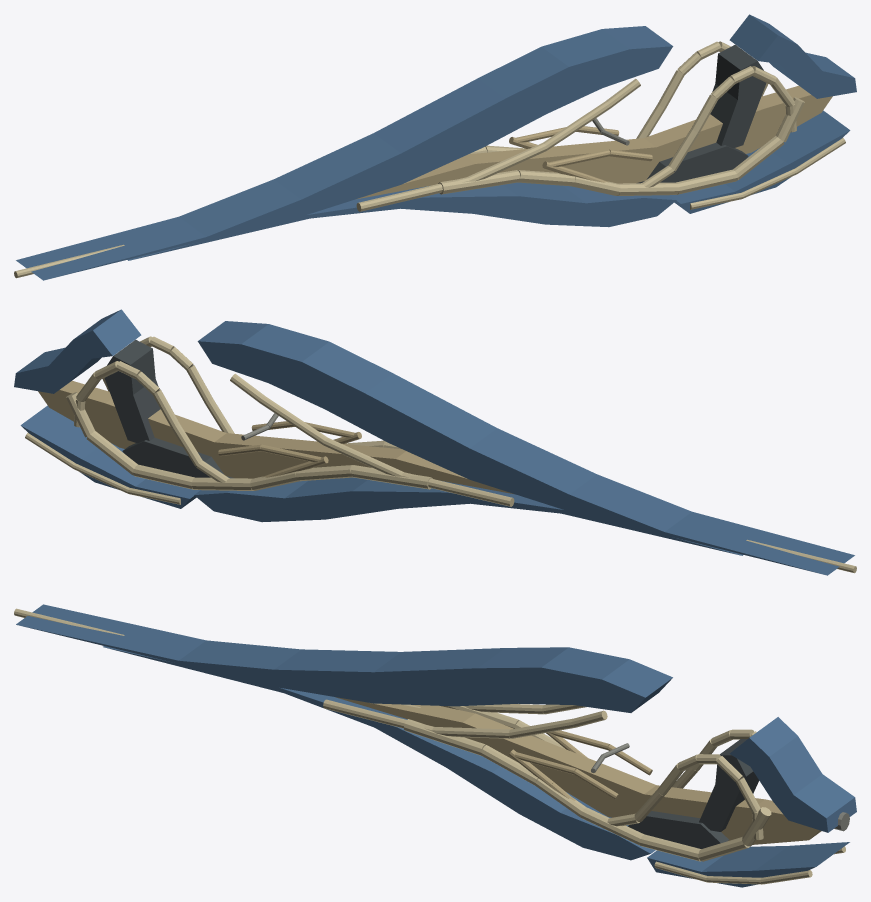
The model's file is ruch_blue_off.glb.
The picture shows the model from 3 angles, top to bottom: view 1: azimuth 30°, elevation 25°; view 2: azimuth 150°, elevation 25°; view 3: azimuth 330°, elevation 25°; orthographic projection.
Parts seen in each view (by area): view 1: upper_blade_0, spine_3, lower_blade_1, gold_frame_8, rear_fairing_6, aft_lower_7, cockpit_arch_9, seat_back_5, seat_base_4, structural_braces_10, rear_rail_11; view 2: upper_blade_0, spine_3, lower_blade_1, gold_frame_8, rear_fairing_6, aft_lower_7, cockpit_arch_9, seat_back_5, seat_base_4, structural_braces_10, rear_rail_11; view 3: upper_blade_0, spine_3, gold_frame_8, lower_blade_1, rear_fairing_6, aft_lower_7, cockpit_arch_9, seat_back_5, structural_braces_10, seat_base_4, rear_rail_11.
Part boxes in pixels (left/top/right/bottom): upper_blade_0: left=16, top=26, right=673, bottom=280; spine_3: left=356, top=85, right=832, bottom=199; lower_blade_1: left=127, top=182, right=676, bottom=260; gold_frame_8: left=356, top=78, right=804, bottom=211; rear_fairing_6: left=729, top=14, right=856, bottom=98; aft_lower_7: left=670, top=110, right=850, bottom=213; cockpit_arch_9: left=636, top=41, right=796, bottom=187; seat_back_5: left=710, top=44, right=766, bottom=148; seat_base_4: left=636, top=142, right=748, bottom=183; structural_braces_10: left=509, top=126, right=652, bottom=182; rear_rail_11: left=690, top=138, right=845, bottom=209; upper_blade_0: left=197, top=321, right=854, bottom=575; spine_3: left=38, top=380, right=514, bottom=494; lower_blade_1: left=194, top=477, right=743, bottom=555; gold_frame_8: left=66, top=373, right=514, bottom=506; rear_fairing_6: left=14, top=309, right=141, bottom=393; aft_lower_7: left=20, top=405, right=200, bottom=508; cockpit_arch_9: left=74, top=336, right=234, bottom=482; seat_back_5: left=104, top=339, right=160, bottom=443; seat_base_4: left=122, top=437, right=234, bottom=478; structural_braces_10: left=218, top=421, right=361, bottom=477; rear_rail_11: left=25, top=433, right=180, bottom=504; upper_blade_0: left=16, top=604, right=672, bottom=712; spine_3: left=335, top=697, right=821, bottom=844; gold_frame_8: left=323, top=699, right=771, bottom=861; lower_blade_1: left=103, top=646, right=655, bottom=860; rear_fairing_6: left=729, top=717, right=856, bottom=832; aft_lower_7: left=647, top=842, right=849, bottom=887; cockpit_arch_9: left=607, top=729, right=763, bottom=839; seat_back_5: left=699, top=739, right=759, bottom=831; structural_braces_10: left=509, top=730, right=652, bottom=800; seat_base_4: left=628, top=811, right=728, bottom=848; rear_rail_11: left=654, top=846, right=845, bottom=884.
Bounding box in the file's own units: 9.15 × 1.86 × 0.76.
